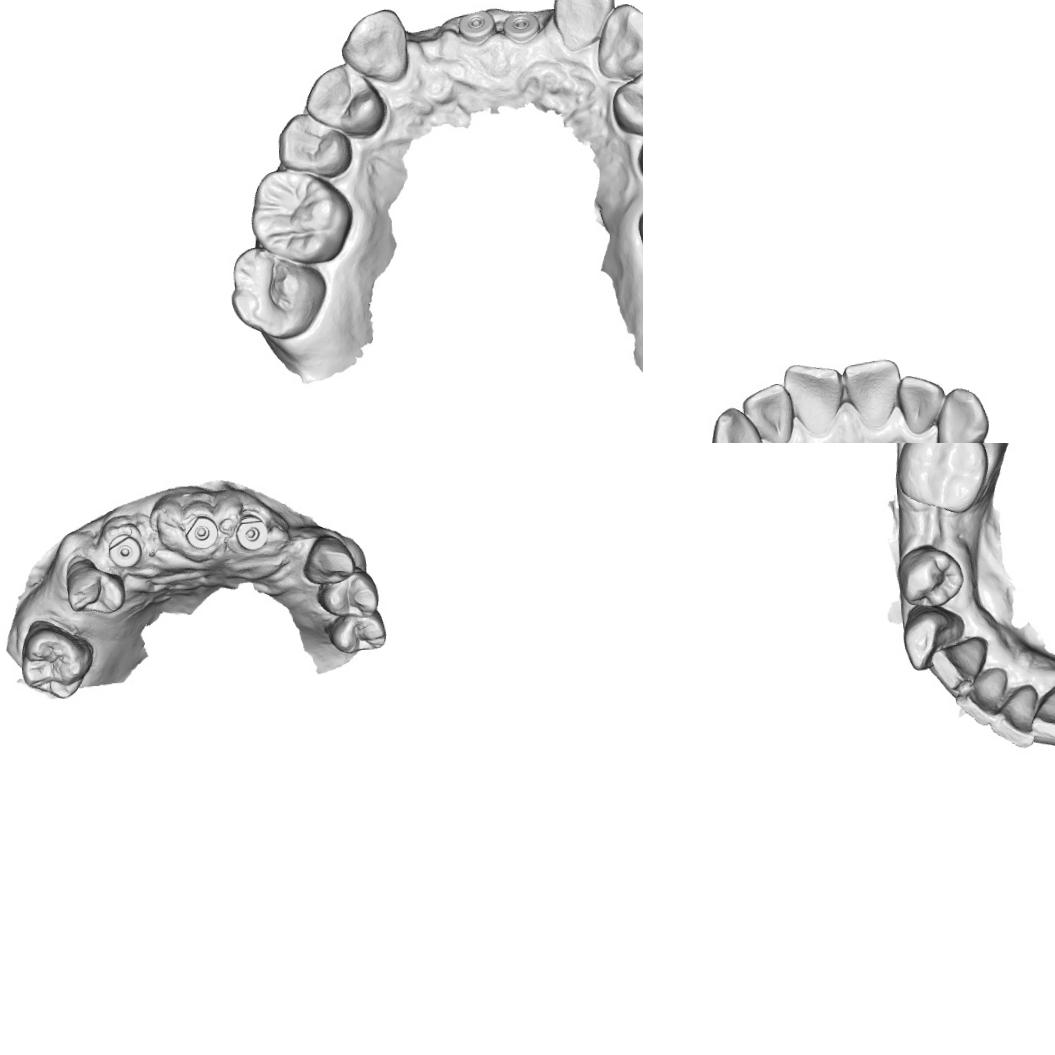canine: (337, 6, 410, 81), (592, 0, 643, 77), (932, 384, 991, 443), (298, 527, 356, 587), (904, 610, 956, 670), (706, 403, 775, 443)
implant: (180, 509, 222, 550), (232, 510, 268, 554), (106, 530, 144, 570), (504, 8, 542, 45), (460, 8, 494, 46)
incisor: (780, 358, 847, 436), (841, 356, 902, 430), (923, 638, 984, 700), (737, 378, 795, 443), (548, 0, 618, 48), (896, 372, 947, 435), (989, 690, 1042, 748), (956, 670, 1006, 725), (1033, 683, 1055, 742)
molar: (247, 165, 355, 265), (227, 243, 328, 340), (892, 443, 988, 517), (15, 619, 96, 702)
premolar: (302, 61, 386, 141), (274, 108, 354, 179), (896, 542, 965, 608), (62, 551, 128, 617), (330, 608, 393, 662), (312, 572, 378, 616), (609, 61, 643, 134)
